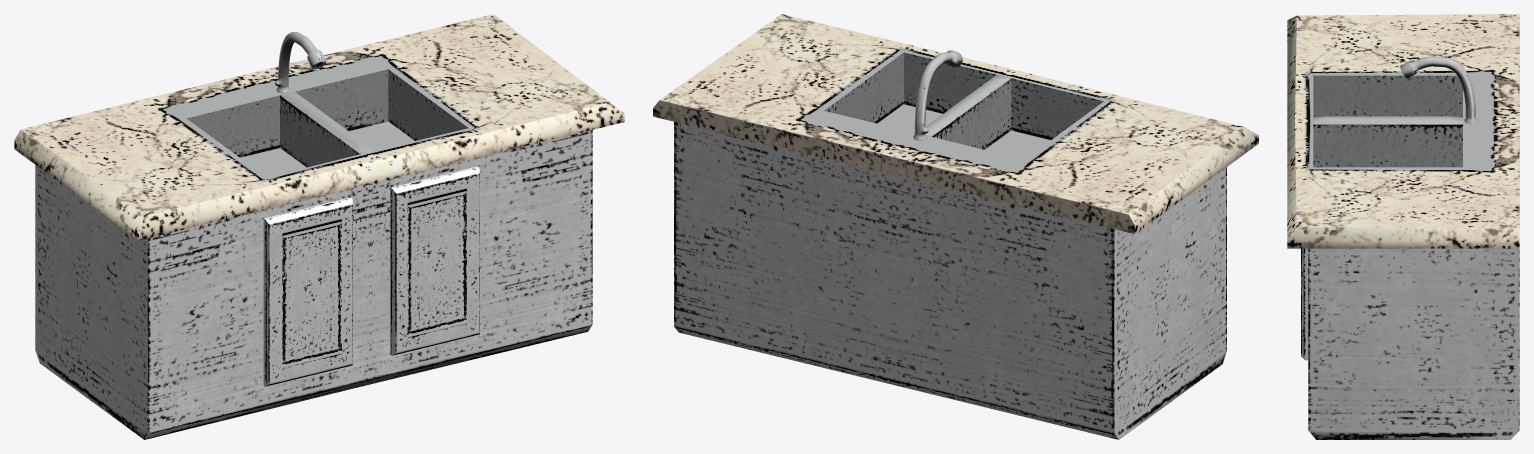
Rendered from Sink.fbx.
3 renders of one model, left to right at view 1: azimuth 30°, elevation 25°; view 2: azimuth 150°, elevation 25°; view 3: azimuth 270°, elevation 25°, orthographic. The views are drawn at different scales.
Visible parts, largest first — view 1: polySurface52; view 2: polySurface52; view 3: polySurface52.
Boxes of the visible parts, left/top/right/bottom form: polySurface52: left=14, top=14, right=624, bottom=439; polySurface52: left=653, top=14, right=1258, bottom=439; polySurface52: left=1287, top=14, right=1519, bottom=439.
Size of the model in its own units: 260 by 155 by 116.
